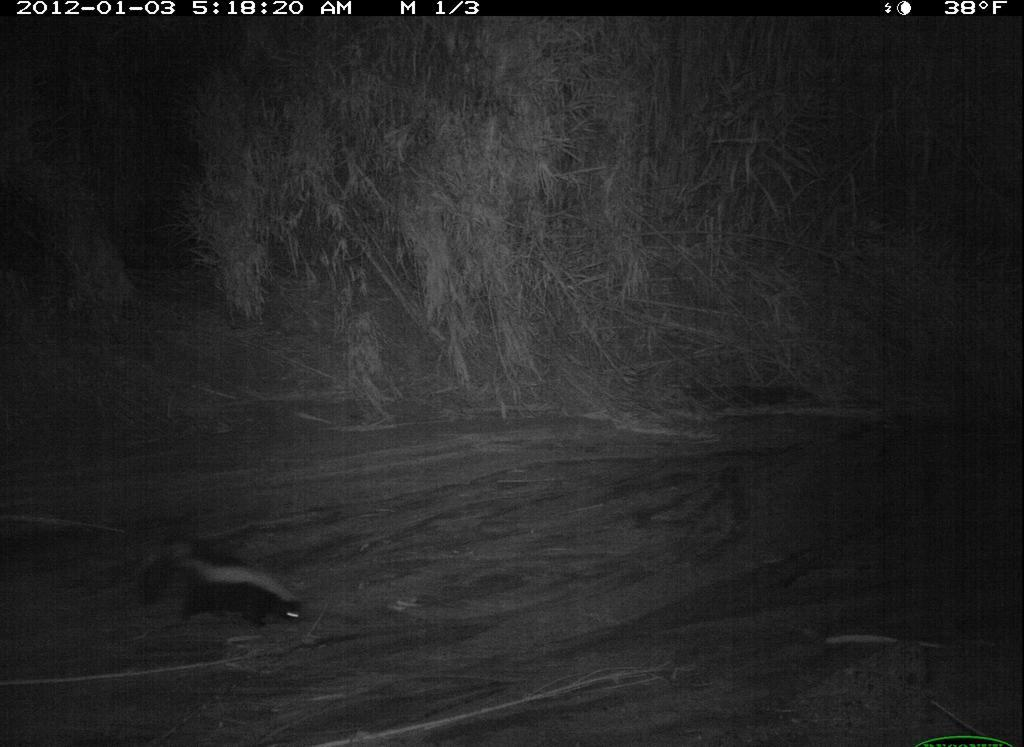skunk: (126, 536, 319, 642)
